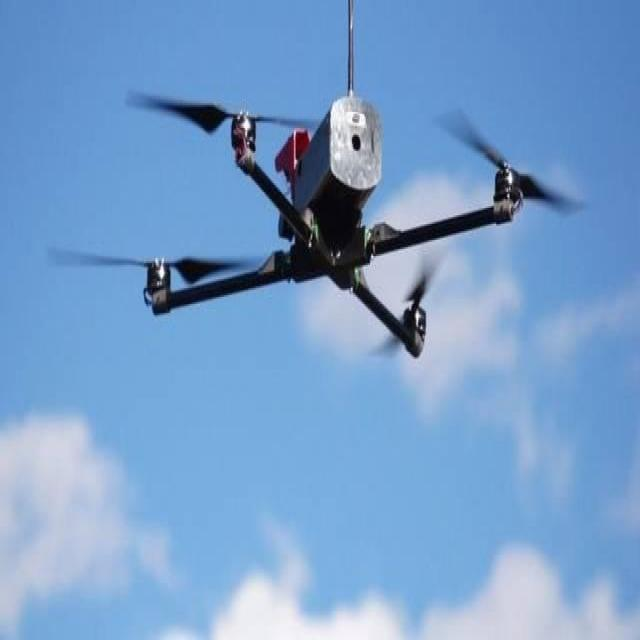UAV: (139, 57, 524, 370)
